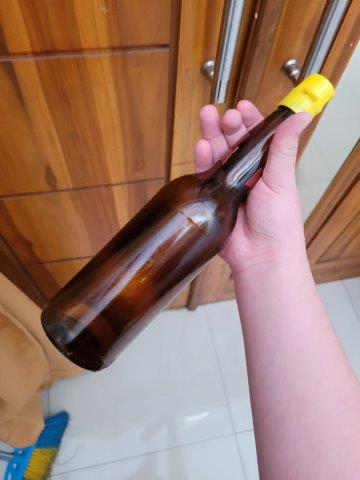botolkaca: (40, 74, 334, 372)
